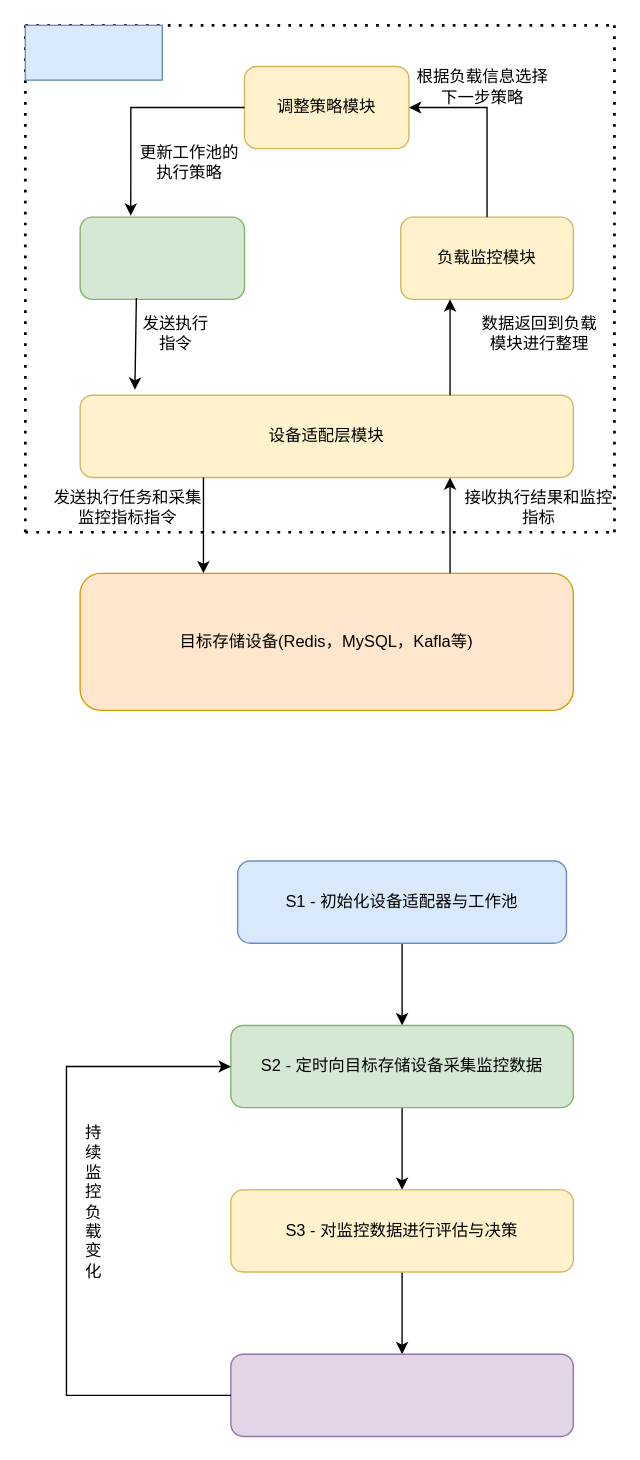
The diagram is 640 pixels wide and 1460 high, and some of its shapes have lost their labels. The box of each missing label's shape, as (x1, y1, x2, y2) in pixels:
S4 - 根据最终决策，向工作池模块发出调整指令: (229, 1353, 573, 1436)
工作池模块: (79, 216, 245, 299)
数据输入方: (24, 24, 162, 80)
